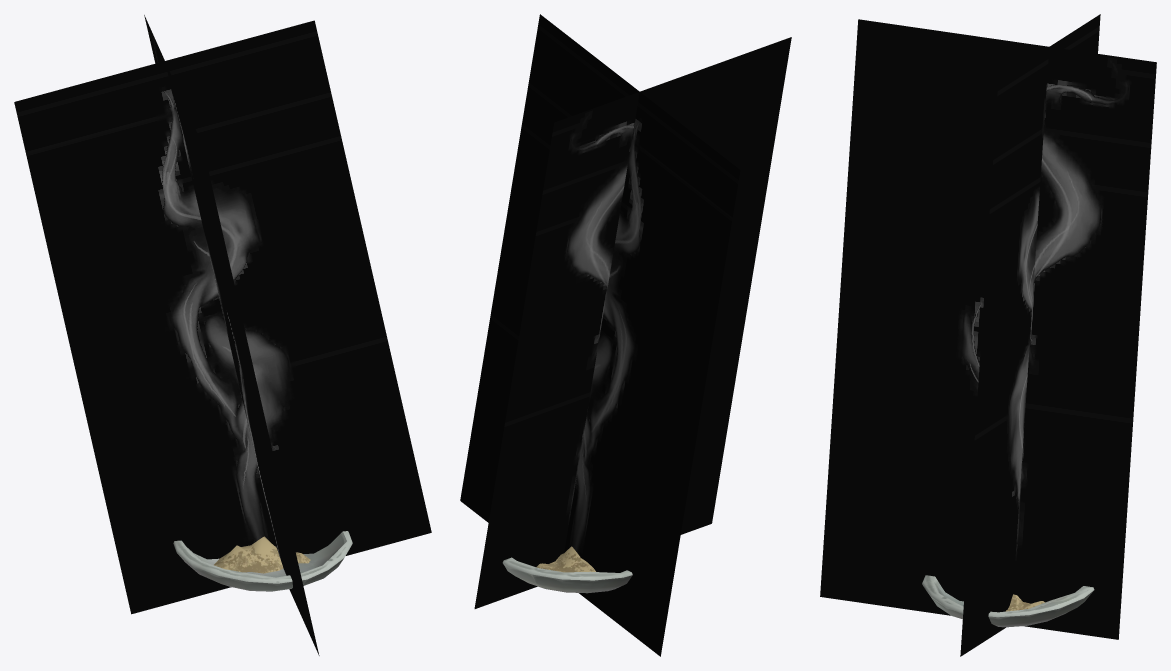
The model's file is ashes.glb.
The picture shows the model from 3 angles, left to right: view 1: azimuth 30°, elevation 25°; view 2: azimuth 150°, elevation 25°; view 3: azimuth 270°, elevation 25°; orthographic projection.
Visible parts, largest first — view 1: Plane.001_Smoke_Material_0, Dish_Dish_Material_0, Mball.002_Sand_Material_0; view 2: Plane.001_Smoke_Material_0, Dish_Dish_Material_0, Mball.002_Sand_Material_0; view 3: Plane.001_Smoke_Material_0, Dish_Dish_Material_0.
Part boxes in pixels (x1=…): Plane.001_Smoke_Material_0: x1=14, y1=15, x2=431, y2=655; Dish_Dish_Material_0: x1=173, y1=531, x2=352, y2=591; Mball.002_Sand_Material_0: x1=214, y1=536, x2=310, y2=573; Plane.001_Smoke_Material_0: x1=460, y1=14, x2=791, y2=656; Dish_Dish_Material_0: x1=502, y1=557, x2=632, y2=593; Mball.002_Sand_Material_0: x1=536, y1=546, x2=595, y2=572; Plane.001_Smoke_Material_0: x1=820, y1=14, x2=1156, y2=656; Dish_Dish_Material_0: x1=922, y1=575, x2=1094, y2=627.
Bounding box in the file's own units: 1.53 × 2.44 × 1.27.
3 materials, 3 textured.
